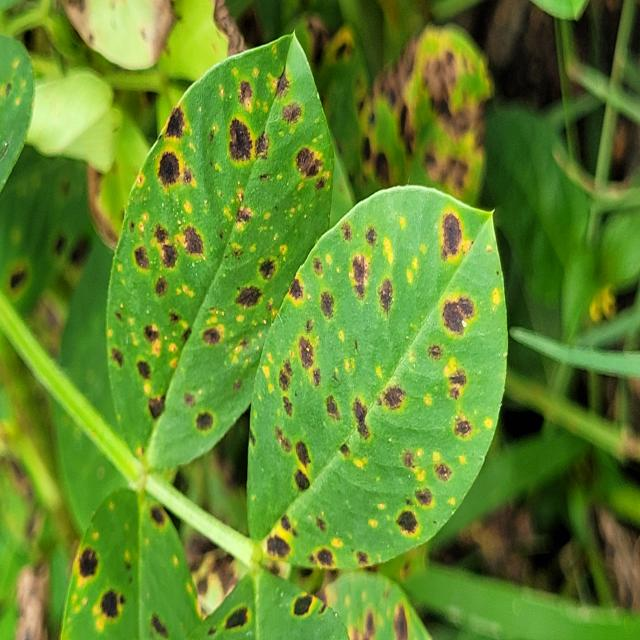Ground nut_tikka leaf spot: (103, 31, 332, 481), (246, 185, 511, 563)
